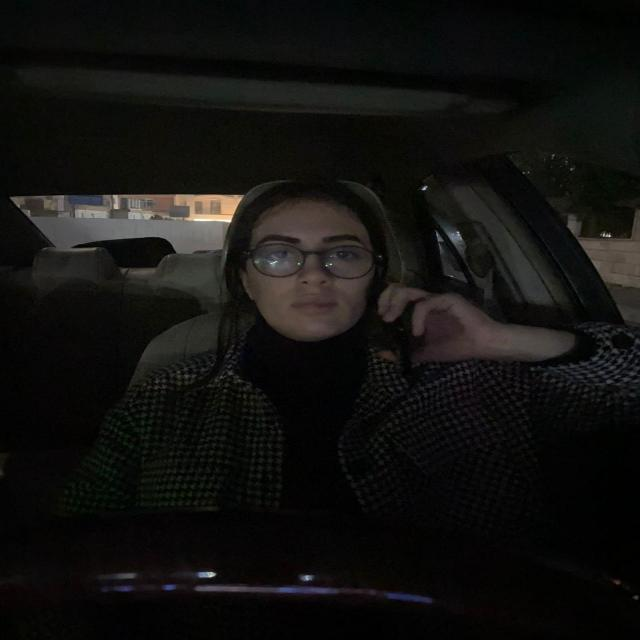mobile: (369, 283, 434, 388)
person: (228, 188, 384, 344)
